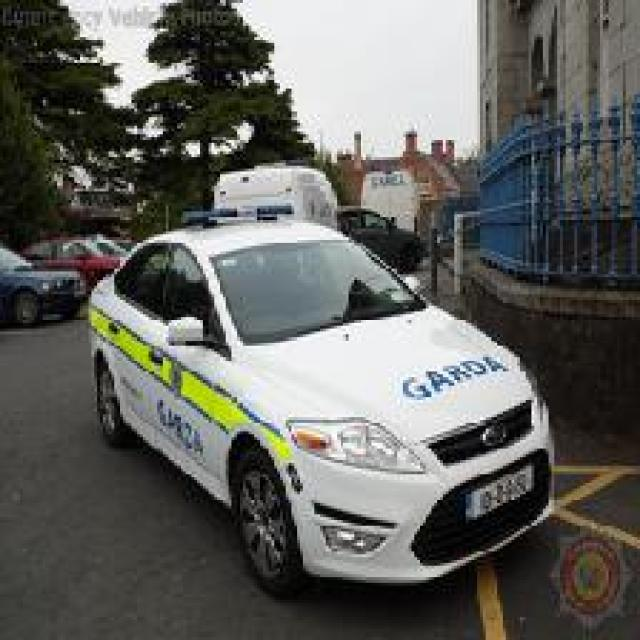Car: (0, 237, 86, 329)
Police-car: (83, 180, 554, 597)
